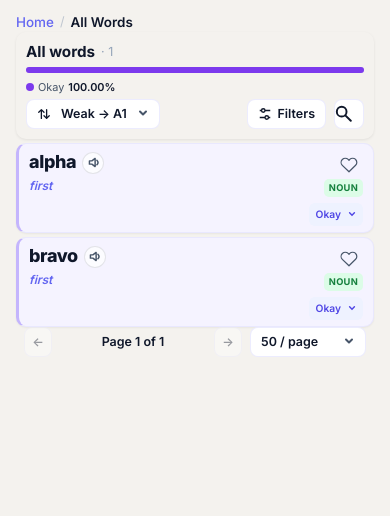
Test: keeps each word locked until its own rating save finishes (mobile=true)
Expected: the number of elements with class "word-card" is 2, [16,143,374,233]; [16,237,374,327]
Click the button "Okay" below "alpha" at (336, 214), box [309,203,363,226]
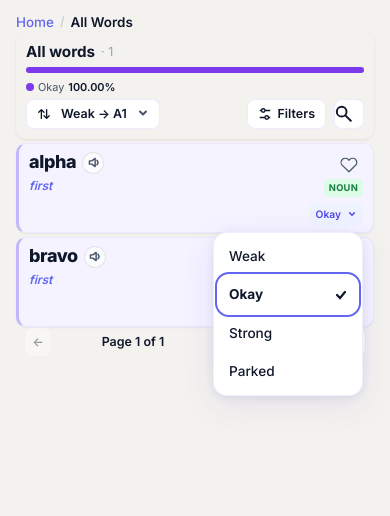
Click the button "Strong" at (288, 333), box [219,315,357,351]
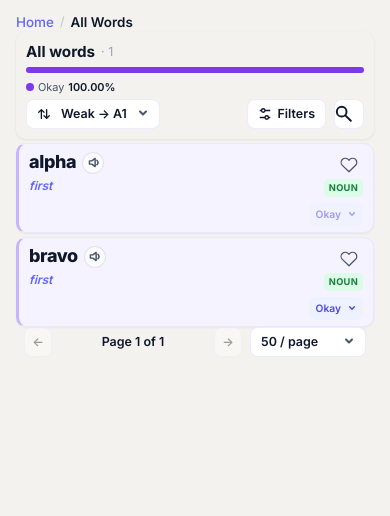
Click the button "Okay" below "bravo" at (336, 308), box [309,297,363,320]
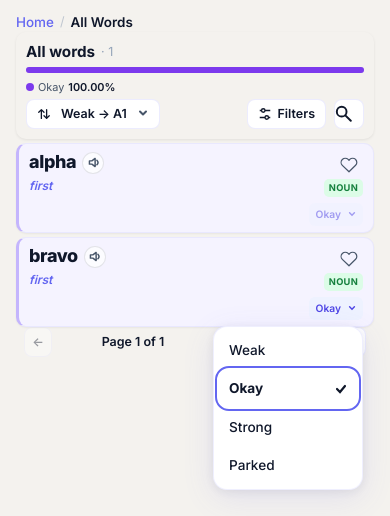
Click the button "Strong" at (288, 427), box [219,409,357,445]
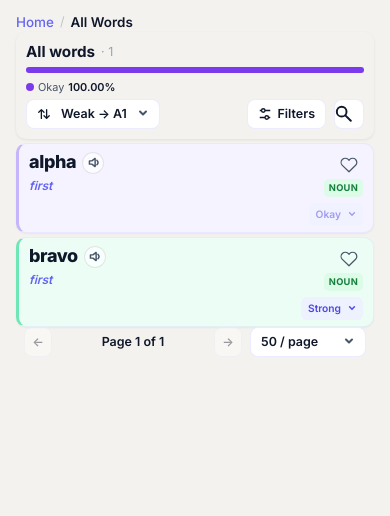
Expected: the button "Strong" is enabled, [301,297,363,320]
Now the button "Okay" is disabled
Click the button "Okay" at (336, 214), box [309,203,363,226]
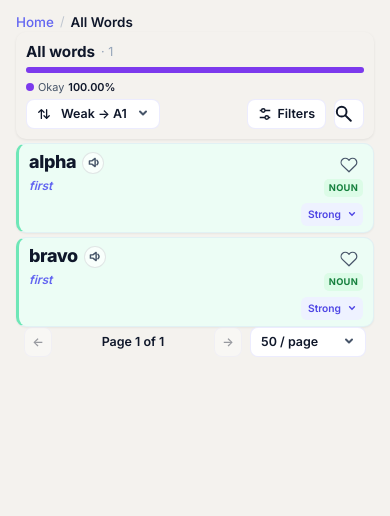
Now the button "Strong" below "alpha" is enabled, box [301,203,363,226]
